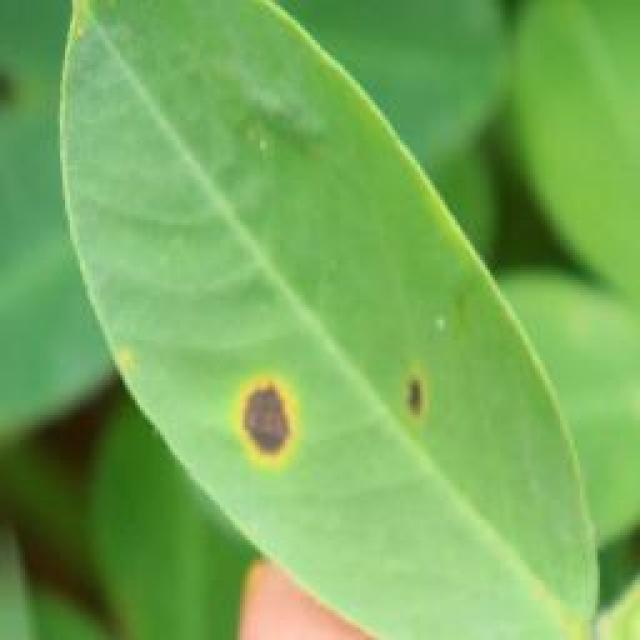Early_leaf_spot: (208, 347, 332, 498), (371, 332, 438, 438)
